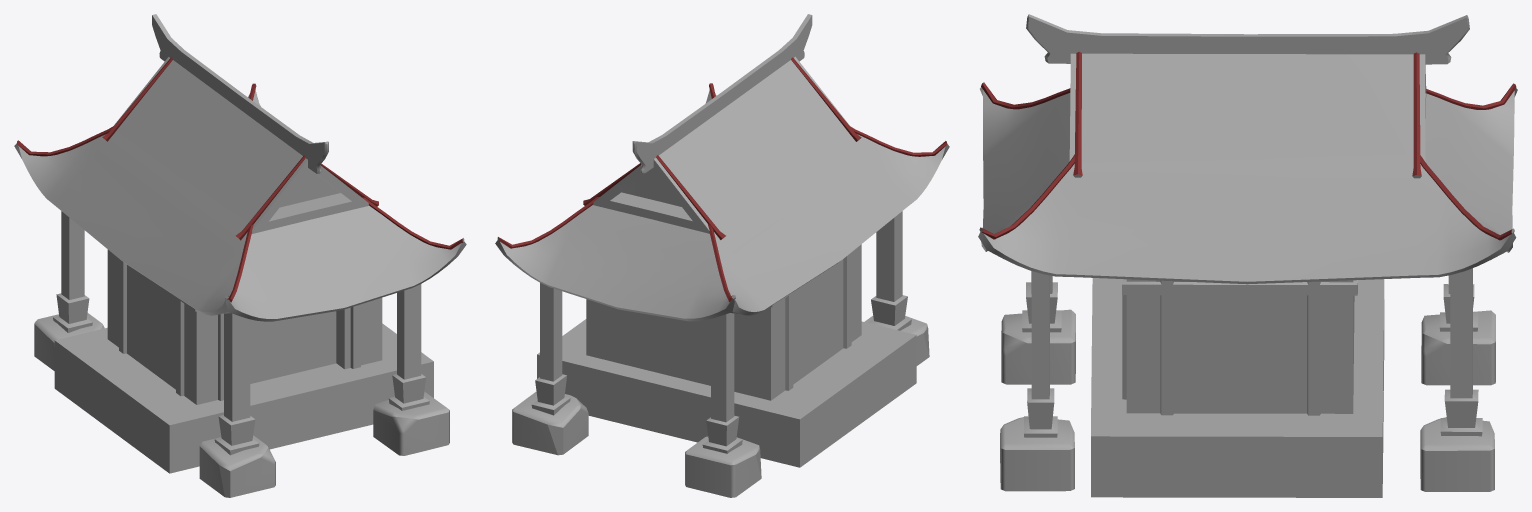
File: chinahouse_3.fbx
3 renders of one model, left to right at view 1: azimuth 30°, elevation 25°; view 2: azimuth 150°, elevation 25°; view 3: azimuth 270°, elevation 25°, orthographic. The views are drawn at different scales.
Visible parts, largest first — view 1: polySurface15; view 2: polySurface15; view 3: polySurface15.
Boxes of the visible parts, <box> form: polySurface15: <box>14,14,466,497</box>; polySurface15: <box>495,14,949,497</box>; polySurface15: <box>978,14,1517,497</box>.
Bounding box in the file's own units: 5.18 × 6.02 × 7.26.
